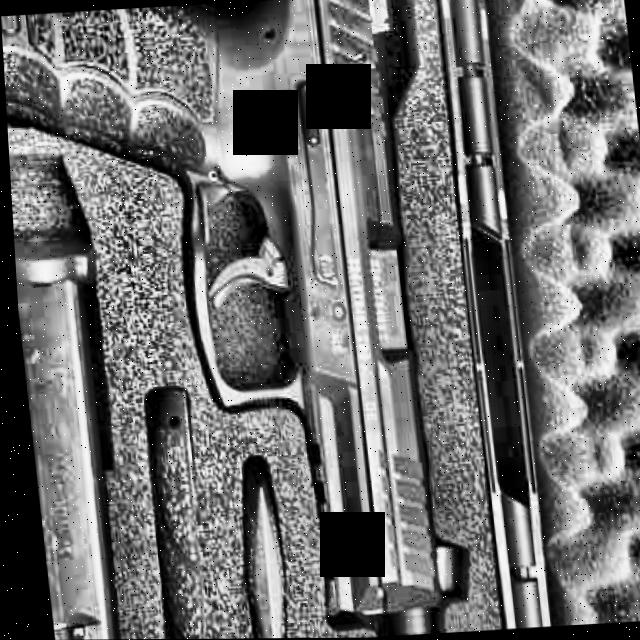Heckler - Koch -H-K-: (0, 0, 513, 640)
